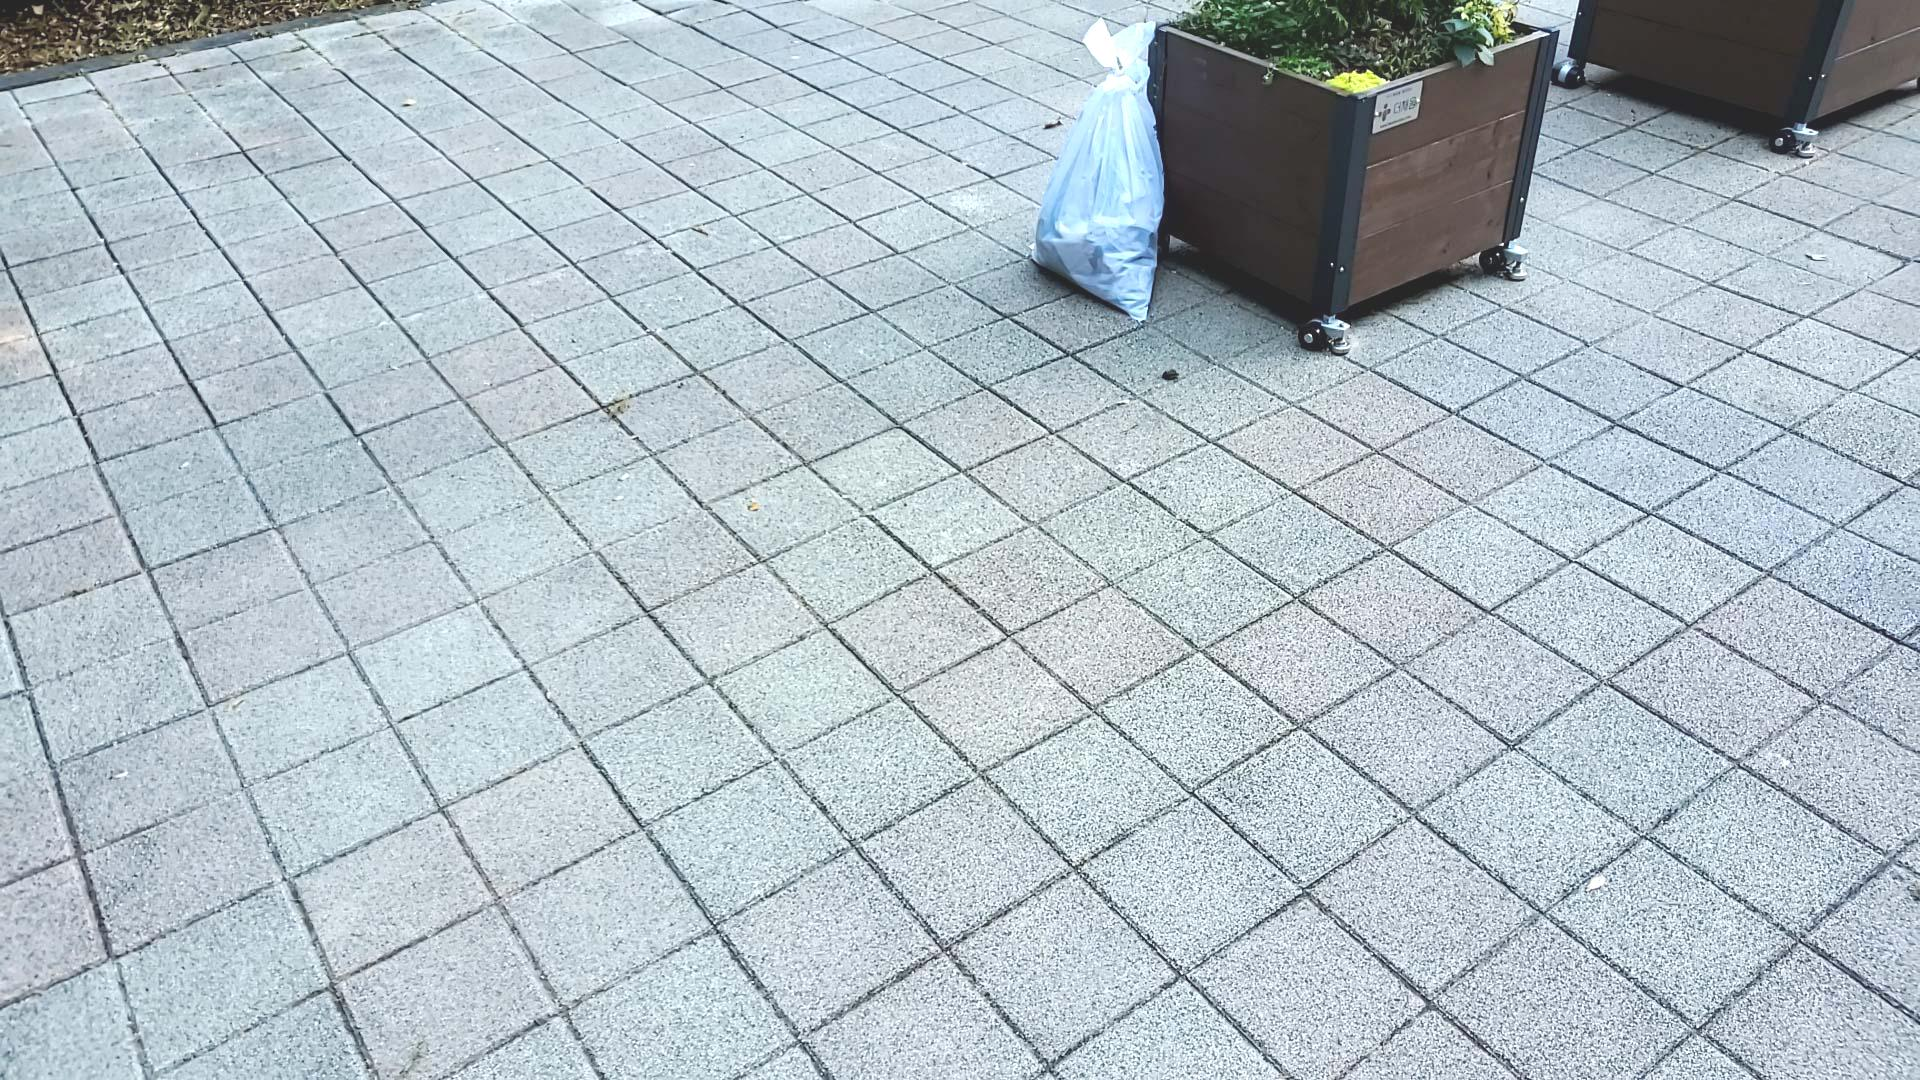white_bag: (1017, 8, 1182, 328)
